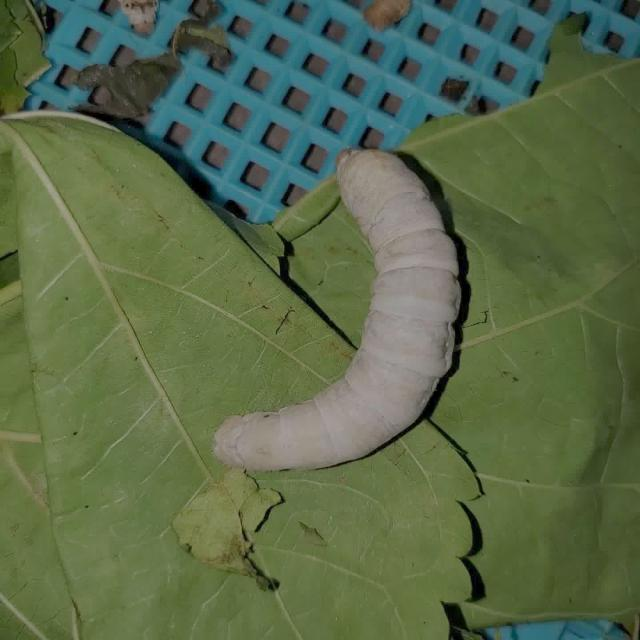Grasserie: (197, 131, 512, 480)
